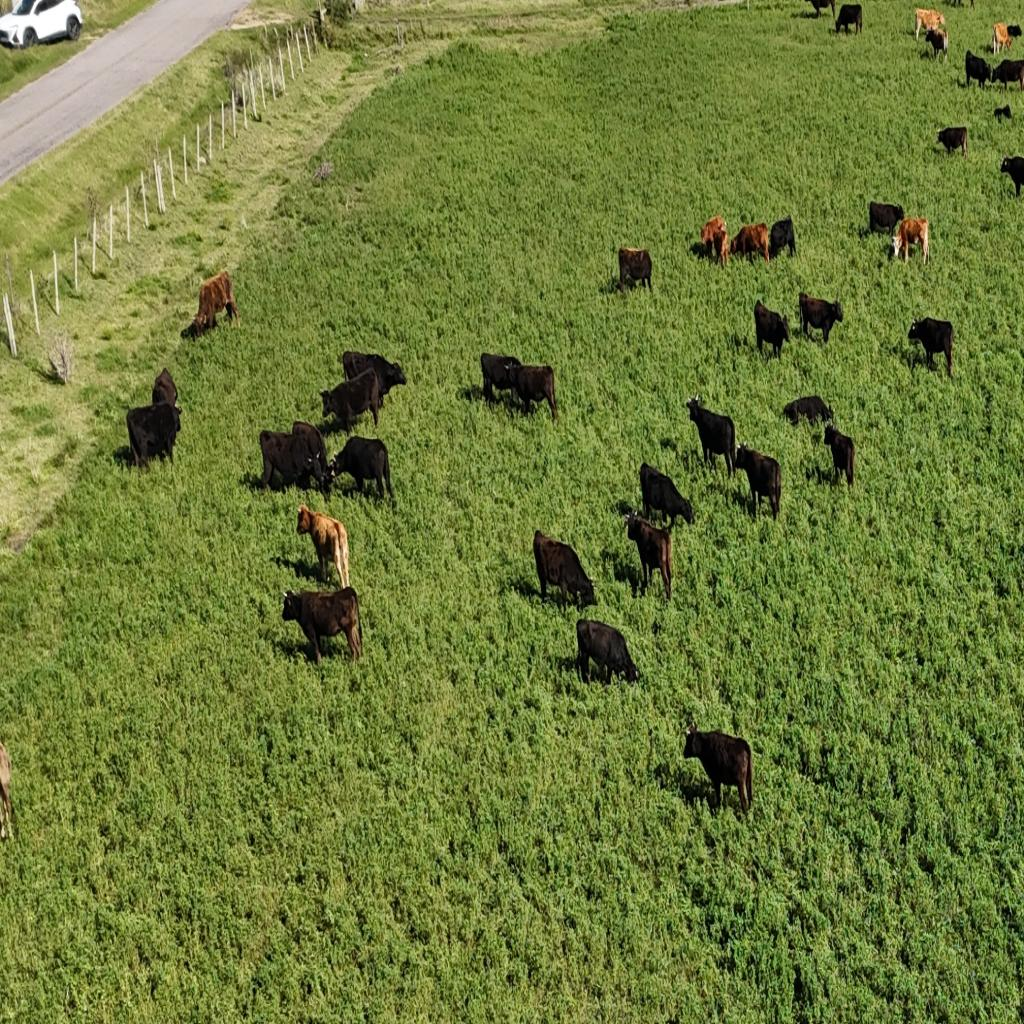cow: (676, 713, 770, 831), (282, 583, 364, 666), (696, 213, 793, 271), (532, 529, 596, 615), (257, 426, 331, 496), (296, 502, 350, 590), (623, 509, 674, 601), (328, 435, 394, 505), (576, 617, 637, 688), (318, 369, 382, 435), (685, 394, 735, 478), (125, 400, 183, 472), (867, 202, 933, 264), (733, 441, 782, 522), (182, 273, 240, 339), (639, 462, 693, 531), (342, 351, 408, 402), (511, 362, 559, 423), (909, 316, 954, 376), (480, 352, 524, 407), (753, 300, 791, 360), (822, 423, 856, 488), (798, 293, 842, 343), (782, 395, 834, 430), (617, 246, 653, 294), (700, 215, 730, 271), (0, 738, 14, 839), (914, 6, 948, 44), (152, 368, 180, 412), (992, 58, 1024, 94), (965, 50, 992, 89), (999, 155, 1024, 197), (936, 124, 968, 156), (835, 3, 862, 37), (924, 28, 948, 65), (991, 22, 1015, 54), (797, 292, 812, 335), (807, 0, 835, 20), (782, 400, 801, 426), (691, 240, 713, 261), (994, 105, 1012, 122), (949, 0, 972, 9), (1014, 21, 1024, 36)
